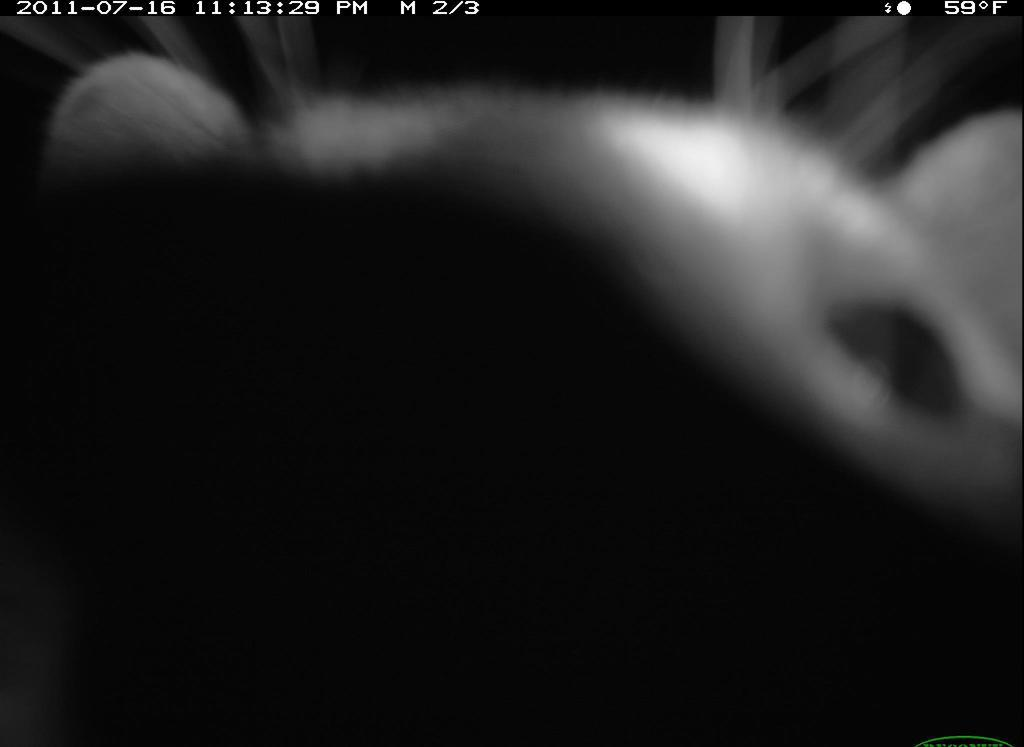raccoon: (1, 16, 1023, 747)
